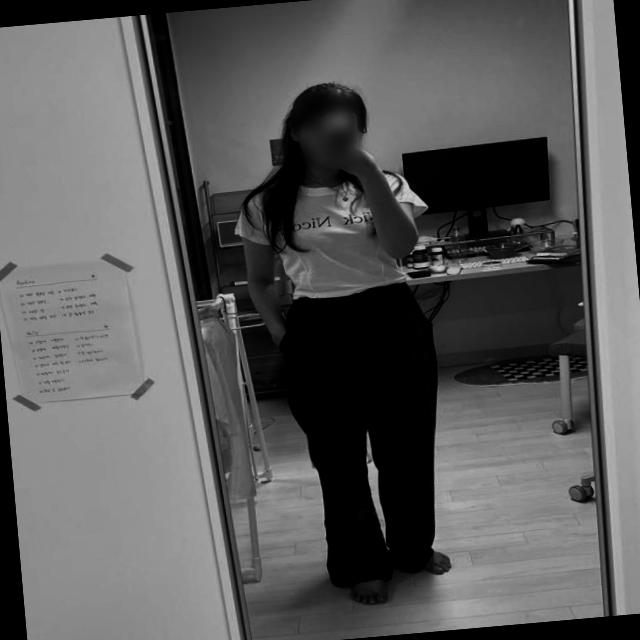shortsleeve: (235, 168, 439, 310)
slacks: (282, 280, 460, 590)
